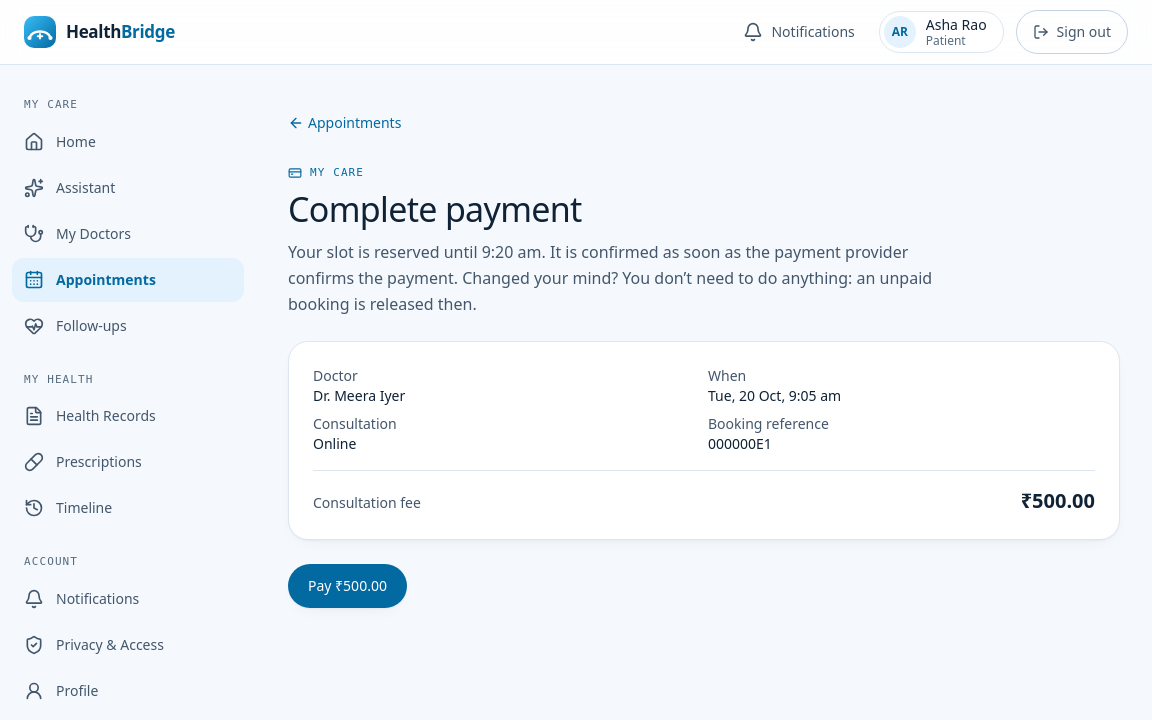
Test: payment › shows the server amount, runs the test checkout and waits for server confirmation
Check: the heading "Complete payment" is shown, box [288, 186, 582, 232]
Check: the text "₹500.00" is shown, box [1021, 487, 1095, 515]
Click the button "Pay ₹500.00": (347, 586) [288, 564, 407, 608]
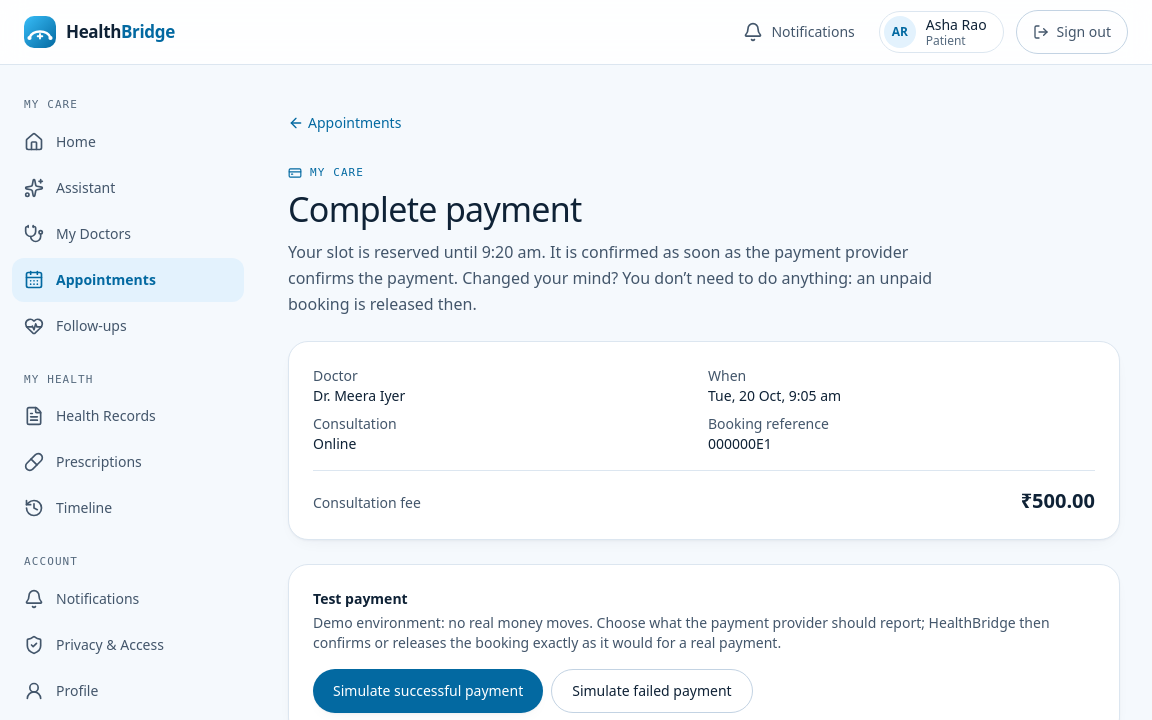
Check: the text "no real money moves" is shown, box [313, 613, 1050, 652]
Click the button "Simulate successful payment": (428, 691) [313, 669, 543, 713]
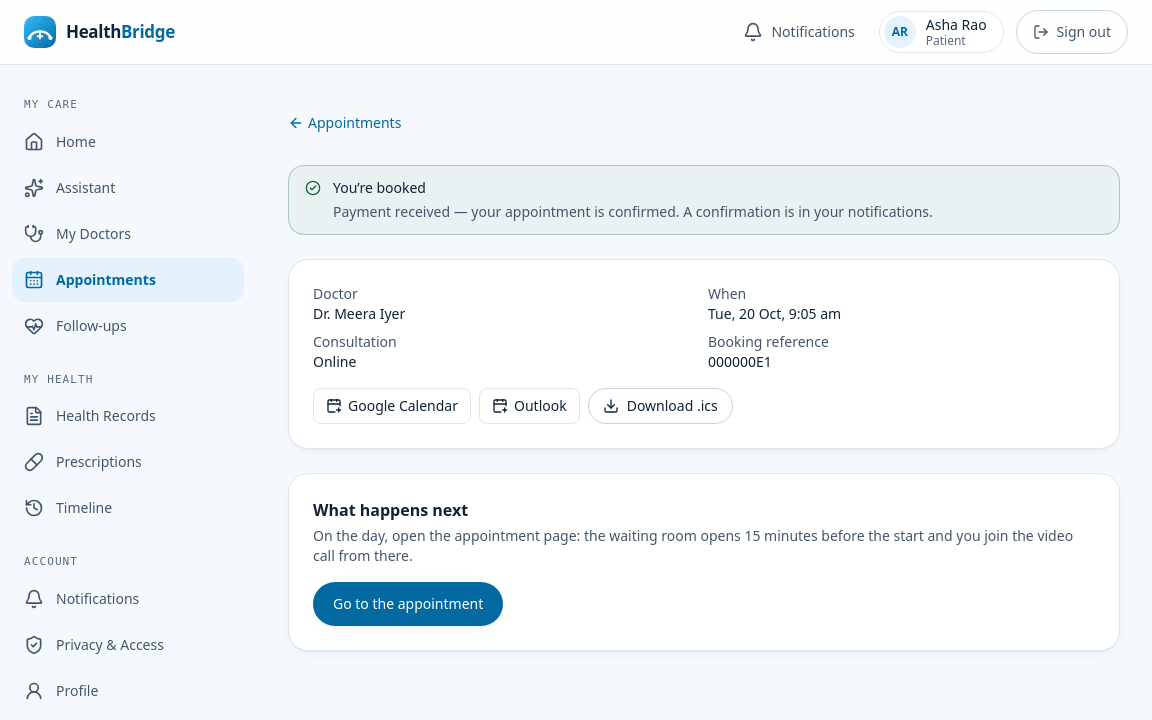
Check: the text "your appointment is confirmed" is shown, box [471, 202, 933, 221]
